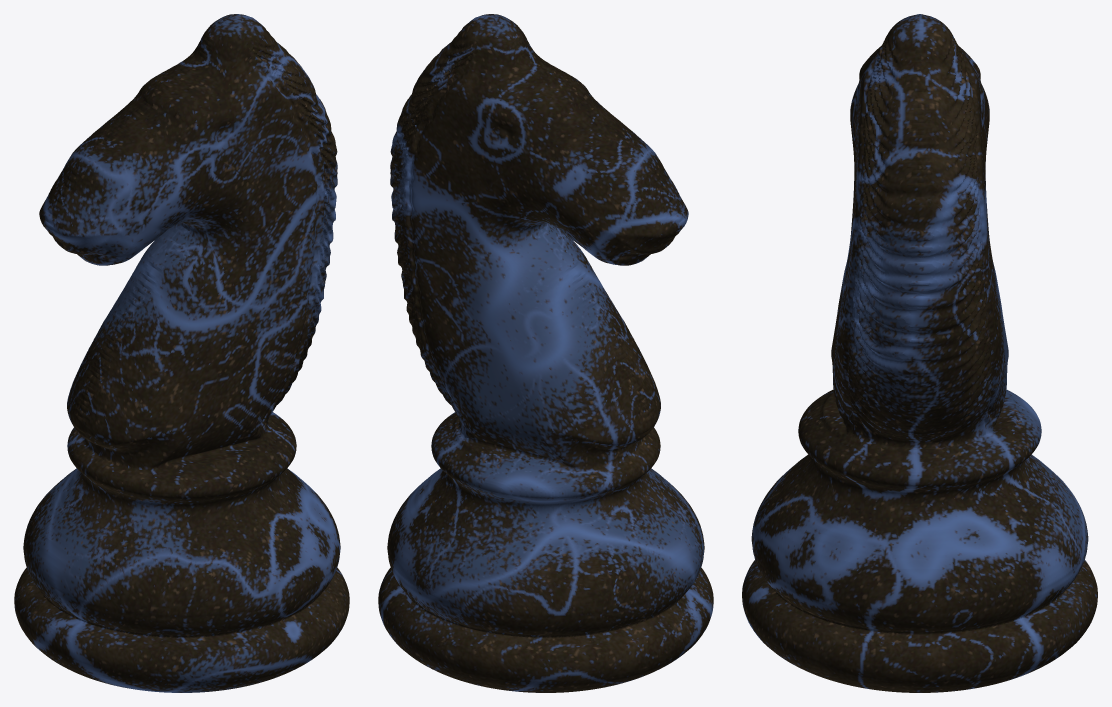
The model's file is cobalt_vein_black_knight.glb.
The picture shows the model from 3 angles, left to right: view 1: azimuth 30°, elevation 25°; view 2: azimuth 150°, elevation 25°; view 3: azimuth 270°, elevation 25°; orthographic projection. The views are drawn at different scales.
Visible parts, largest first — view 1: Cobalt Vein black knight; view 2: Cobalt Vein black knight; view 3: Cobalt Vein black knight.
Boxes of the visible parts, x1,y1,x2,y2 form: Cobalt Vein black knight: [14, 14, 349, 692]; Cobalt Vein black knight: [378, 14, 713, 692]; Cobalt Vein black knight: [742, 14, 1097, 692].
Size of the model in its own units: 0.0364 by 0.0719 by 0.036.
